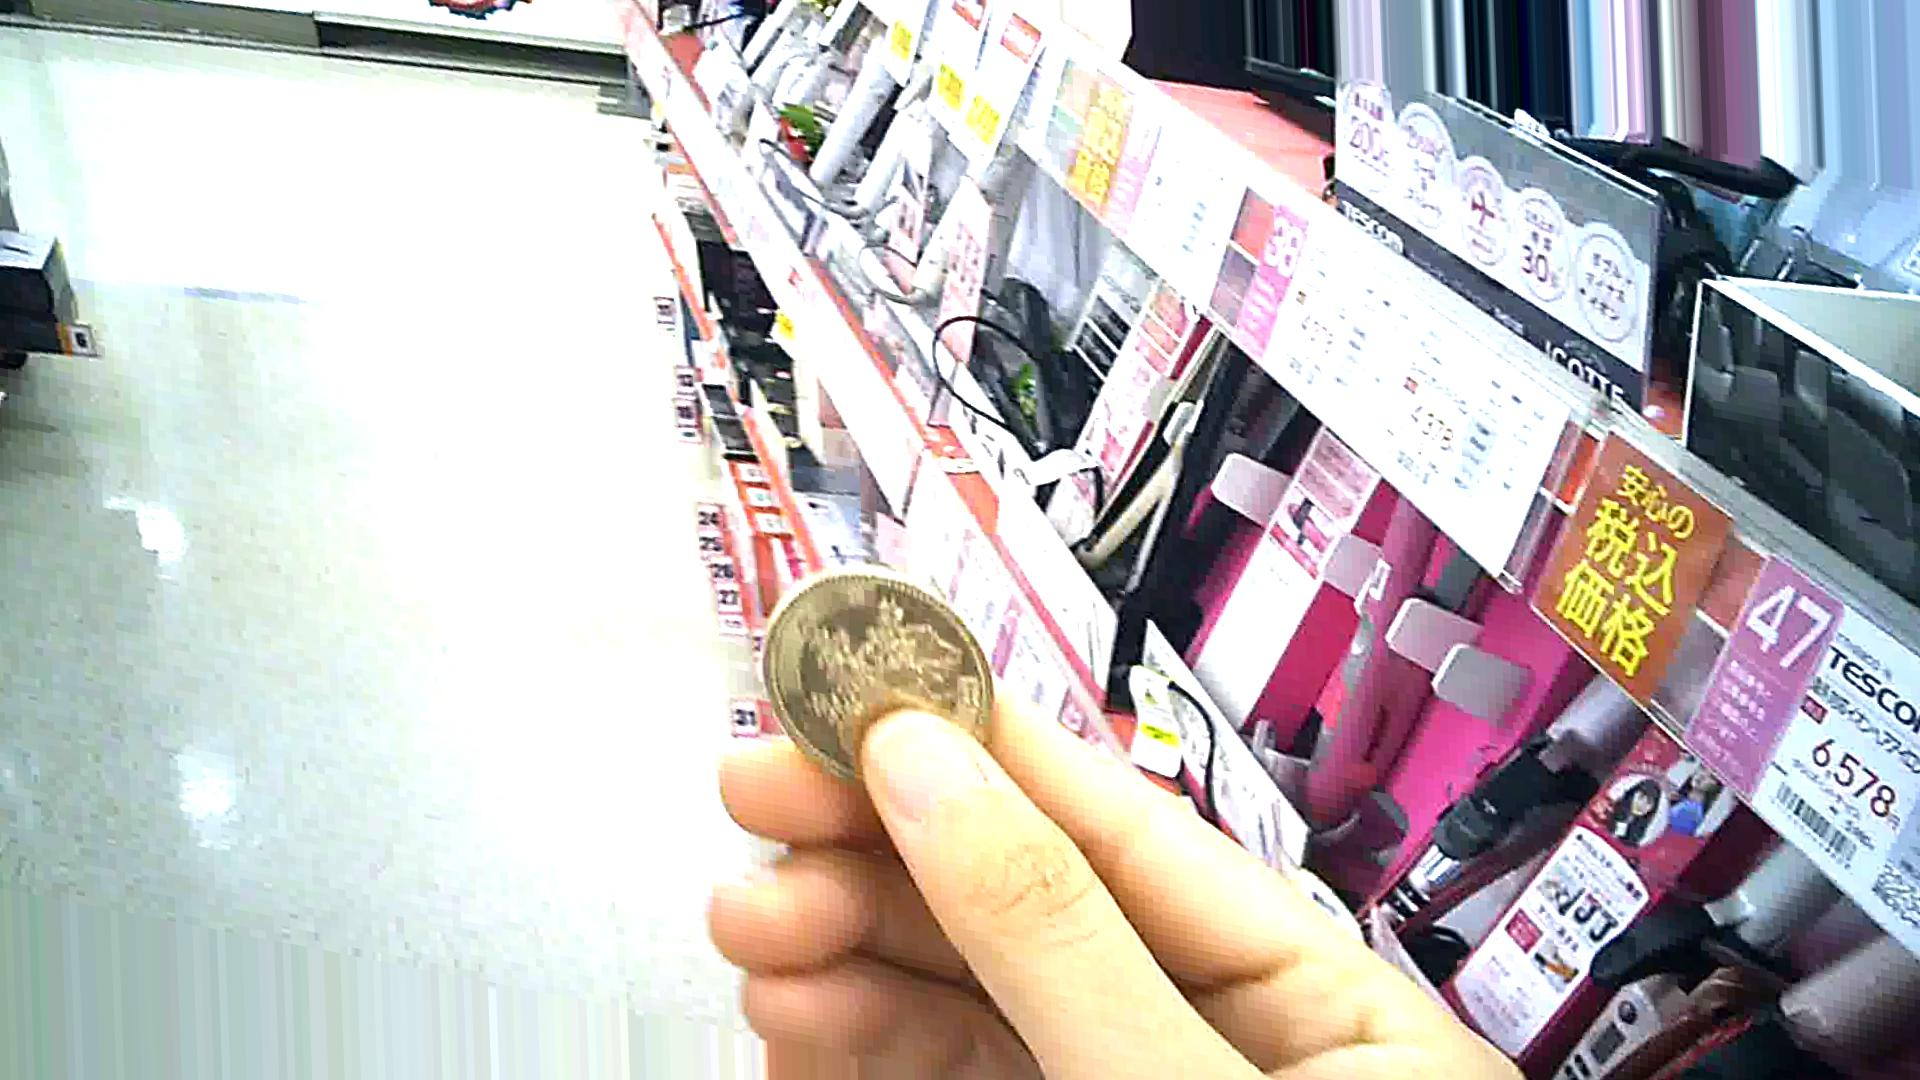500 Yen: (756, 559, 996, 777)
